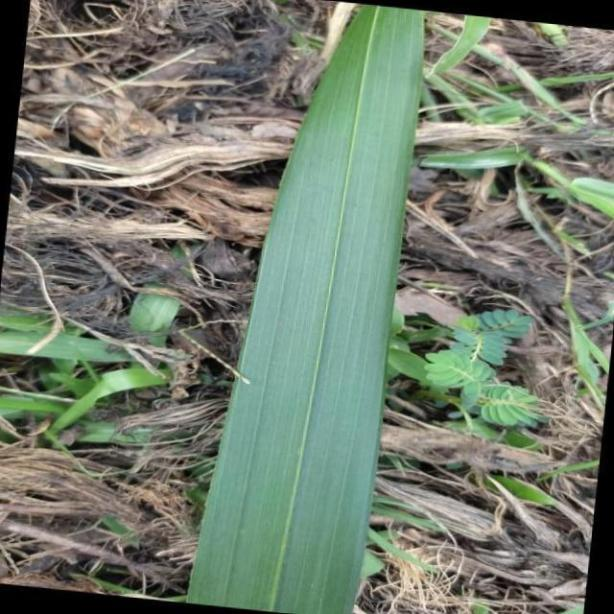Healthy: (185, 1, 425, 614)
